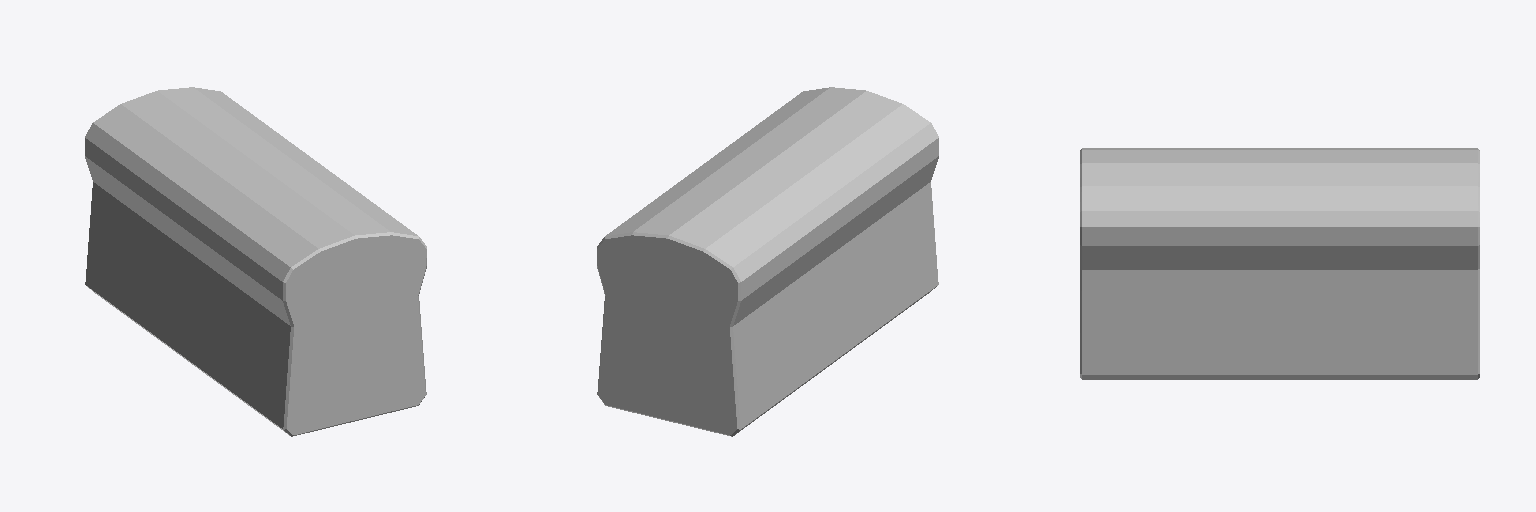
Rendered from LoafBread.obj.
3 views of the same model, side by side, from view 1: azimuth 30°, elevation 25°; view 2: azimuth 150°, elevation 25°; view 3: azimuth 270°, elevation 25° (orthographic).
Visible parts, largest first — view 1: Loaf; view 2: Loaf; view 3: Loaf.
Part boxes in pixels (x1,y1,x2,y2): Loaf: (85, 87, 426, 436); Loaf: (597, 87, 938, 436); Loaf: (1080, 148, 1479, 379).
Size of the model in its own units: 0.2108 by 0.2587 by 0.5056.